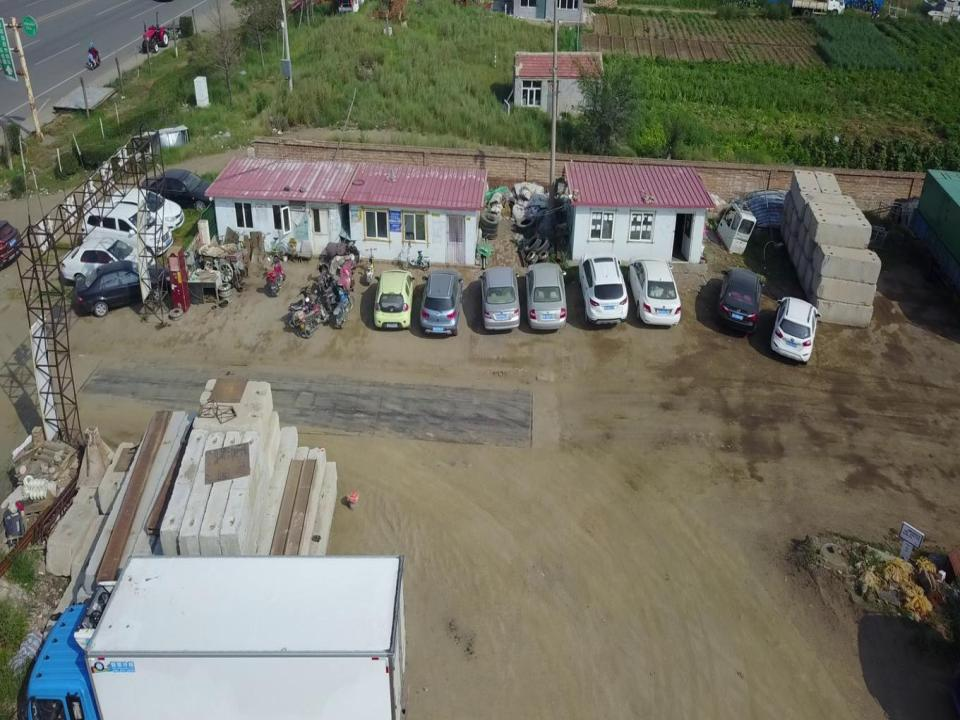car: (80, 200, 172, 256), (73, 262, 171, 314), (577, 247, 631, 336), (628, 253, 684, 328), (137, 162, 216, 214), (60, 238, 144, 283), (106, 182, 186, 229), (773, 286, 817, 366), (714, 264, 764, 334), (476, 261, 522, 332), (421, 266, 465, 338), (526, 259, 567, 334), (371, 266, 414, 334)
truck: (17, 550, 406, 717), (0, 212, 21, 265)
